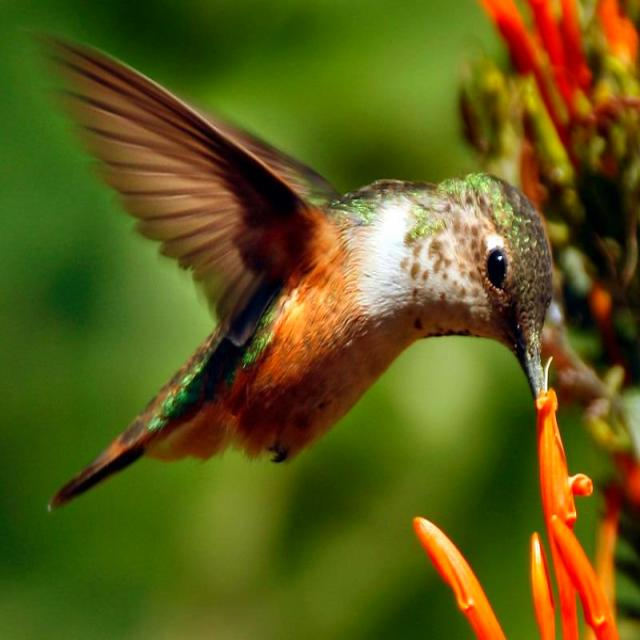hummingbird: (48, 39, 553, 508)
